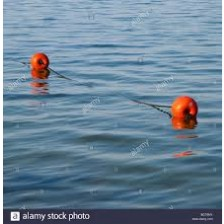buoy: (173, 97, 197, 121), (32, 53, 49, 70)
